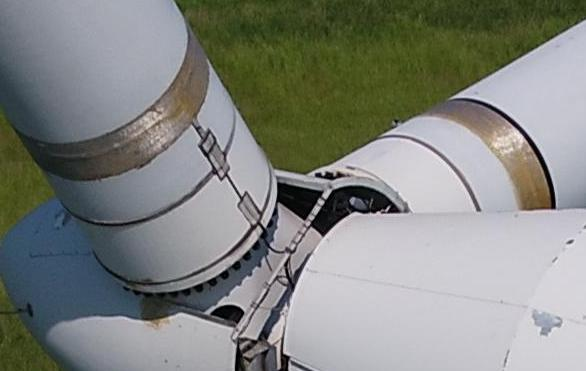damage: (139, 295, 172, 329), (530, 307, 564, 337), (53, 209, 73, 231), (128, 276, 155, 289)
